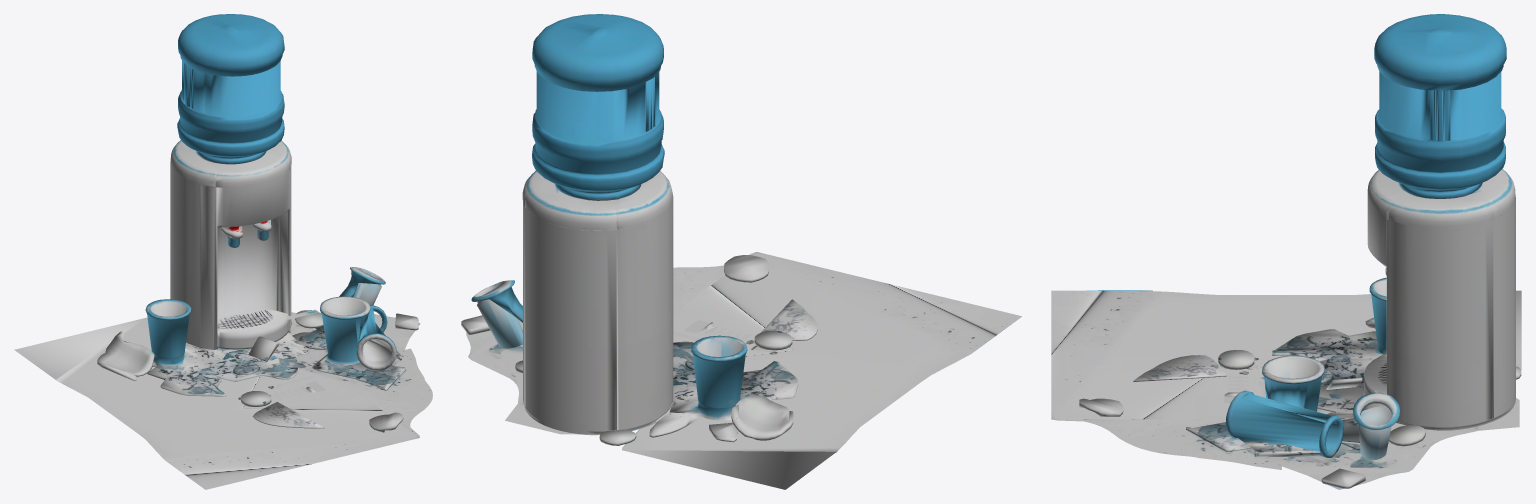
File: broken_water_cooler_with_scattered_cups_aa26c38a_v2.glb
The picture shows the model from 3 angles, left to right: view 1: azimuth 30°, elevation 25°; view 2: azimuth 150°, elevation 25°; view 3: azimuth 270°, elevation 25°; orthographic projection. The views are drawn at different scales.
Visible parts, largest first — view 1: material; view 2: material; view 3: material.
Part boxes in pixels (x1=…): material: x1=14, y1=14, x2=432, y2=489; material: x1=461, y1=14, x2=1021, y2=489; material: x1=1051, y1=14, x2=1521, y2=489.
Bounding box in the file's own units: 1.9 × 1.65 × 1.9.
Materials: 1 (1 with a texture image).
